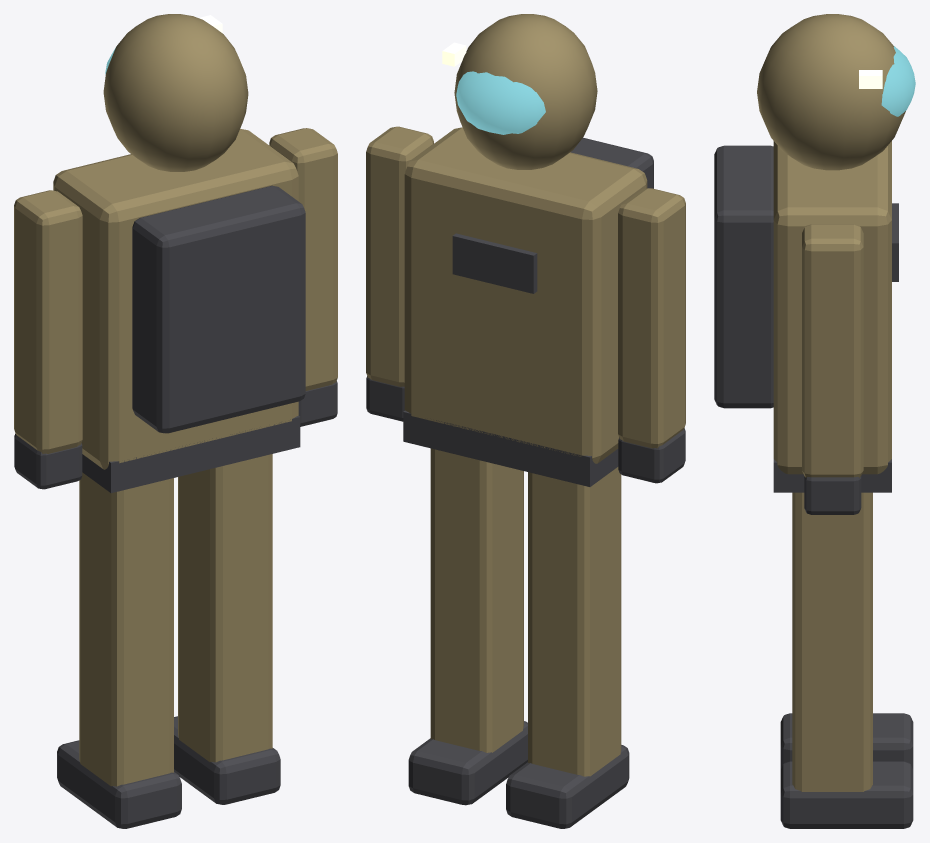
The model's file is crew_suit.glb.
3 renders of one model, left to right at view 1: azimuth 30°, elevation 25°; view 2: azimuth 150°, elevation 25°; view 3: azimuth 270°, elevation 25°, orthographic.
Visible parts, largest first — view 1: Cube.009, Cube, Cube.004, Cube.008, Sphere, Cube.002, Cube.006, Cube.011, Cube.001, Cube.005, Cube.003, Cube.007; view 2: Cube.008, Cube, Cube.004, Cube.002, Sphere, Cube.006, Cube.011, Cube.001, Cube.005, Sphere.001, Cube.010, Cube.003 (+2 smaller); view 3: Cube.004, Cube.008, Sphere, Cube.009, Cube.006, Cube.005, Cube.001, Cube.007, Sphere.001, Cube.011, Cube.010, Cube.012.
Part boxes in pixels (x1,y1,x2,y2): Cube.009: (132,185,305,433); Cube: (79,472,173,786); Cube.004: (178,454,272,762); Cube.008: (53,128,298,469); Sphere: (103,14,248,171); Cube.002: (14,190,82,453); Cube.006: (269,128,337,390); Cube.011: (82,415,300,493); Cube.001: (57,740,181,828); Cube.005: (174,716,280,804); Cube.003: (14,433,82,489); Cube.007: (298,381,337,426); Cube.008: (404,127,647,463); Cube: (528,467,621,776); Cube.004: (430,448,523,752); Cube.002: (618,188,685,448); Sphere: (454,14,597,169); Cube.006: (366,126,433,386); Cube.011: (403,410,618,486); Cube.001: (506,745,629,828); Cube.005: (408,721,527,805); Sphere.001: (456,71,545,134); Cube.010: (452,233,537,293); Cube.003: (618,428,685,483); Cube.004: (792,492,872,791); Cube.008: (773,141,891,474); Sphere: (757,14,905,170); Cube.009: (714,145,773,408); Cube.006: (802,224,863,477); Cube.005: (780,761,913,828); Cube.001: (780,713,913,769); Cube.007: (804,476,861,514); Sphere.001: (881,46,915,116); Cube.011: (773,459,891,492); Cube.010: (892,203,898,281); Cube.012: (859,70,882,88).
Size of the model in its own units: 0.73 by 1.8 by 0.425.
